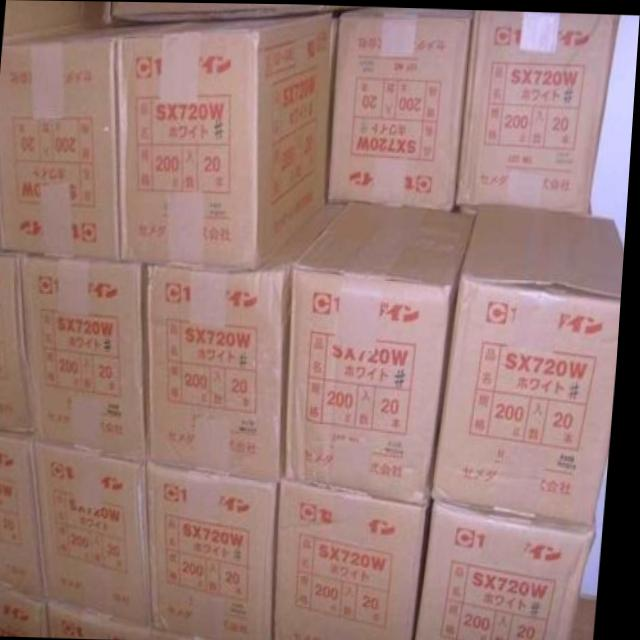box: (433, 207, 627, 523), (146, 199, 347, 483), (292, 198, 479, 499), (120, 7, 332, 267), (0, 18, 177, 258), (459, 10, 620, 215), (329, 8, 472, 208), (25, 253, 150, 462), (281, 475, 437, 640), (421, 503, 603, 640), (151, 462, 284, 640), (39, 437, 159, 628), (0, 430, 57, 603), (0, 250, 40, 438), (56, 601, 228, 640), (0, 586, 57, 635)
